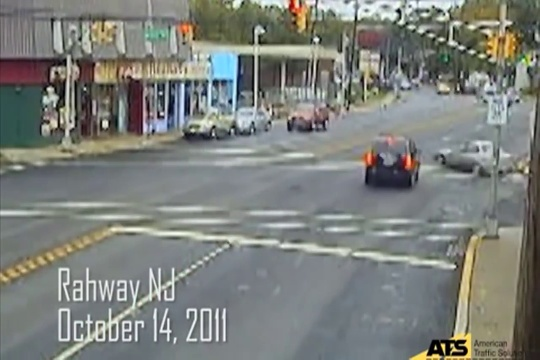car: (363, 131, 417, 192), (438, 140, 515, 179), (285, 99, 334, 131), (183, 111, 228, 139), (235, 103, 271, 133)
